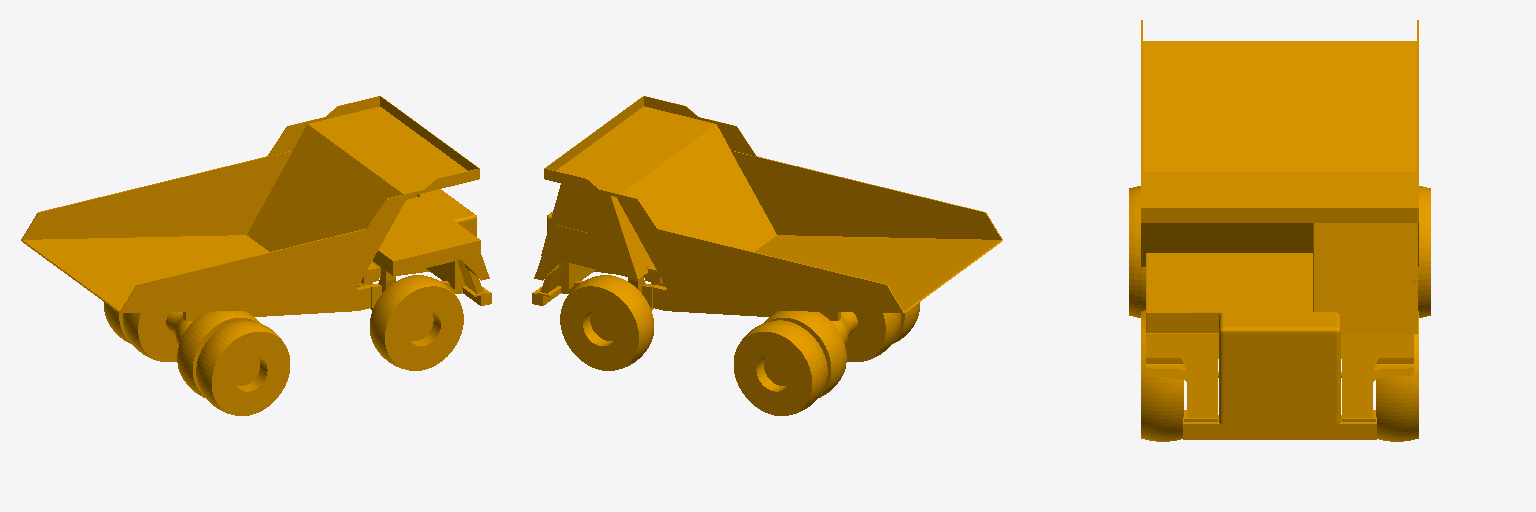
URDF robot description (hd465_7):
<?xml version="1.0"?>
<robot name="hd465_7">
  <property name="M_PI" value="3.14159274"/>

  <link name="base_link">
    <visual>
     <origin xyz="0 0 0" rpy="1.570795 0 3.14159" />
      <geometry>
	<mesh filename="package://test_urdf_test/mesh/hd465_7_light.STL"/>
      </geometry>
    </visual>

    <collision>
      <origin xyz="-4.7 0 2.2" rpy="0 0 0" />
      <geometry>
        <box size="9.4 4.2 4.4"/>
      </geometry>
    </collision>

    <inertial>
      <origin xyz="0 0 2.2" rpy="0 0 0" />
      <mass value="10" />
      <inertia ixx="10.0" ixy="0.0" ixz="0.0"
               iyy="10.0" iyz="0.0"
               izz="10.0" />
    </inertial>
  </link>
  
<!-- ground -->

<link name="base_footprint"/>
  <joint name="base_link_joint" type="fixed">
    <parent link="base_footprint"/>
    <child link="base_link"/>
    <origin xyz="0 0 0"/>
  </joint>  

  <!-- gazebo -->
  <gazebo>
    <plugin name="gazebo_ros_control" filename="libgazebo_ros_control.so">
      <robotNamespace>hd465_7</robotNamespace>
    </plugin>
  </gazebo>

  <gazebo reference="base_link">
    <selfCollide>true</selfCollide>
    <mu1 value="0.5" />
    <mu2 value="0.5" />
  </gazebo>

</robot>

--- What the picture shows (computed from the rendered views, not written in the file) ---
Views: 3 orthographic renders of the robot side by side, from view 1: azimuth 30°, elevation 25°; view 2: azimuth 150°, elevation 25°; view 3: azimuth 270°, elevation 25°.
Robot: hd465_7 — 2 links, 1 joints (1 fixed); root link base_footprint; default pose: every joint at zero.
Visible links, largest first — view 1: base_link; view 2: base_link; view 3: base_link.
Link boxes in pixels (<box>): base_link: <box>21,96,491,415</box>; base_link: <box>532,96,1002,415</box>; base_link: <box>1129,20,1430,441</box>.
Bounding box of the posed robot: 9.36 × 4.52 × 4.4 m (x, y, z).
1 mesh visuals loaded from 1 distinct referenced files (1 binary STL).
